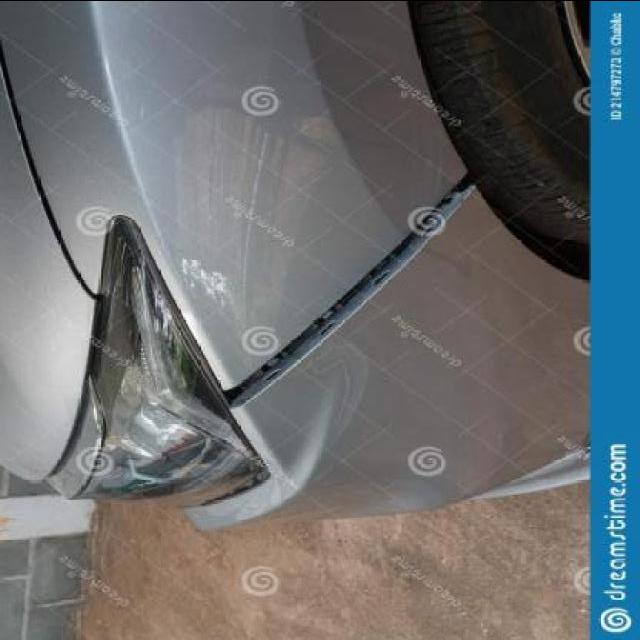front-bumper-dent: (221, 162, 495, 418)
